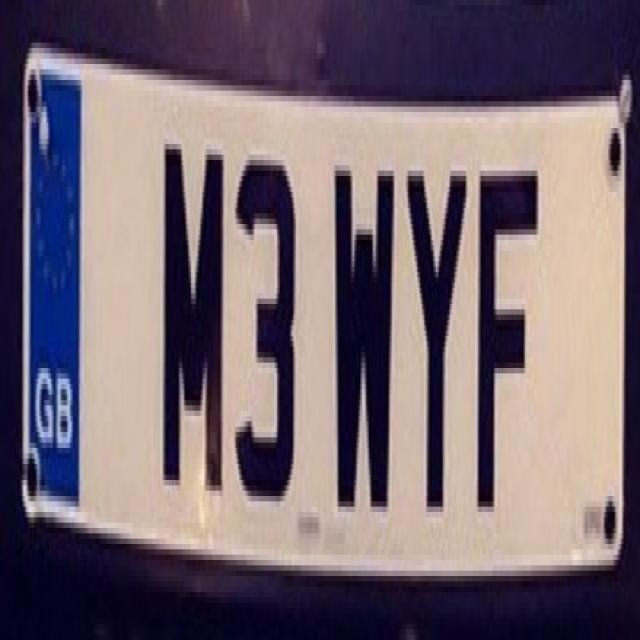licenseplate: (19, 23, 634, 603)
